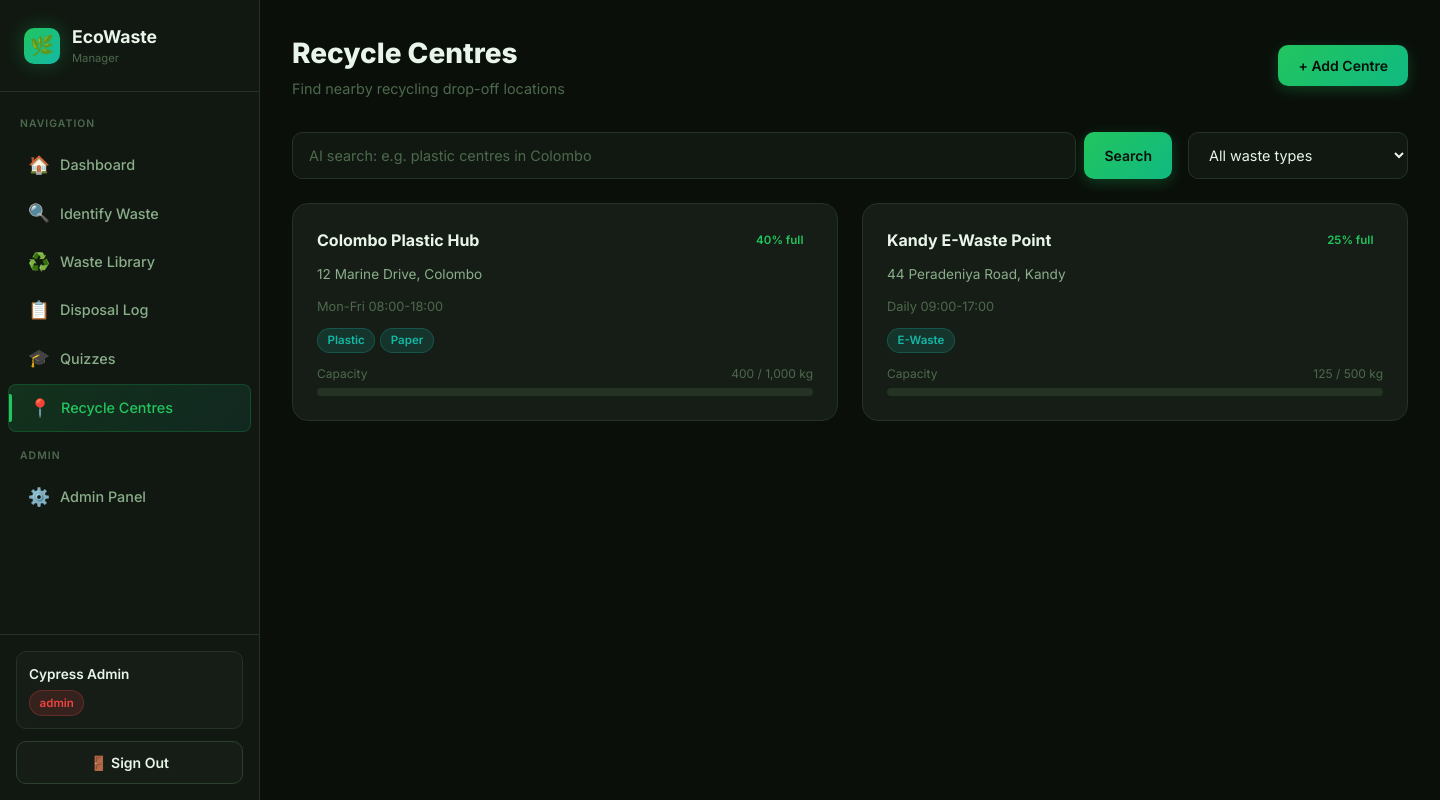
Recycle centres module › opens the add centre modal for admins
Click the button "+ Add Centre" at (1343, 66), box x1=1278 y1=45 x2=1408 y2=86
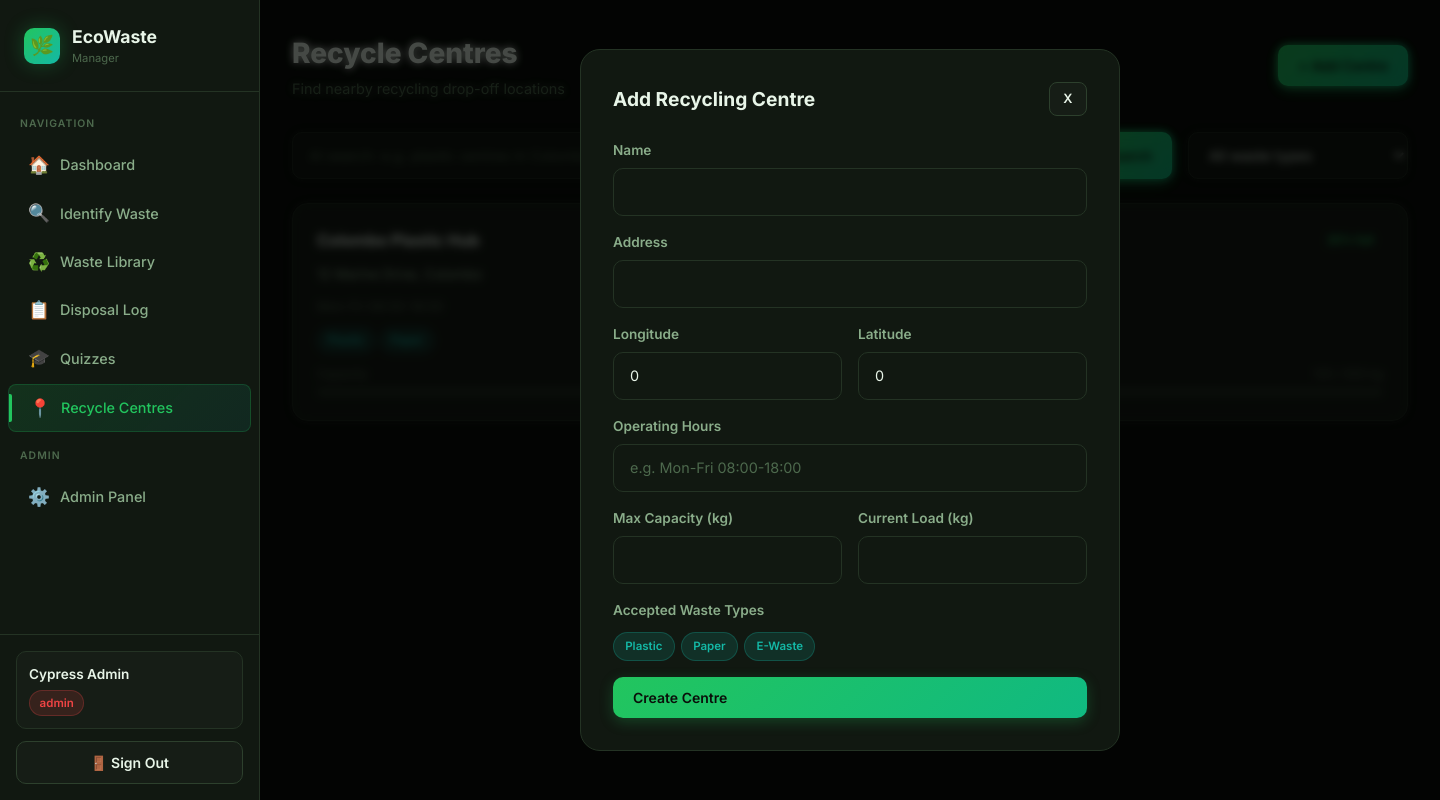
Result: the heading "Add Recycling Centre" is shown at x1=613 y1=84 x2=815 y2=113
Result: the text "Name" is shown at x1=613 y1=142 x2=651 y2=158
Result: the text "Address" is shown at x1=613 y1=234 x2=668 y2=250
